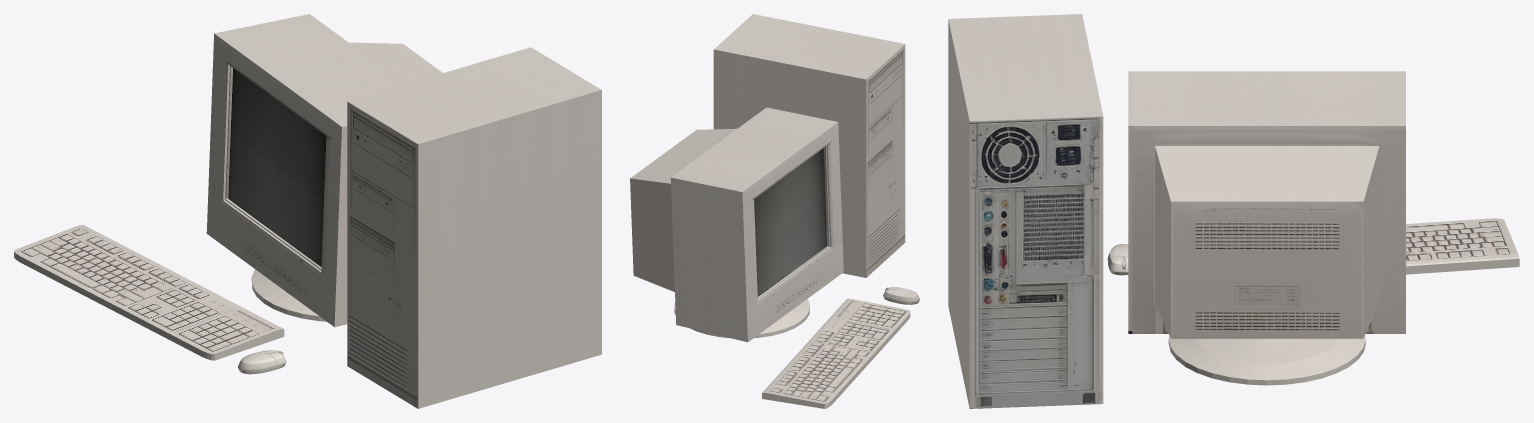
The model's file is Retro_Desktop_PC_Set_Low_Poly.glb.
3 views of the same model, side by side, from view 1: azimuth 30°, elevation 25°; view 2: azimuth 150°, elevation 25°; view 3: azimuth 270°, elevation 25° (orthographic). The views are drawn at different scales.
Visible parts, largest first — view 1: Block_Material.006_0, Monitor_Material.001_0, Keyboard_Material.002_0, Mouse_Material.004_0; view 2: Monitor_Material.001_0, Block_Material.006_0, Keyboard_Material.002_0, Mouse_Material.004_0; view 3: Monitor_Material.001_0, Block_Material.006_0, Keyboard_Material.002_0, Mouse_Material.004_0.
Boxes of the visible parts, x1=… form: Block_Material.006_0: x1=347, y1=47, x2=601, y2=408; Monitor_Material.001_0: x1=206, y1=14, x2=442, y2=327; Keyboard_Material.002_0: x1=14, y1=225, x2=284, y2=360; Mouse_Material.004_0: x1=238, y1=350, x2=286, y2=374; Monitor_Material.001_0: x1=630, y1=107, x2=843, y2=342; Block_Material.006_0: x1=713, y1=14, x2=905, y2=277; Keyboard_Material.002_0: x1=762, y1=298, x2=910, y2=408; Mouse_Material.004_0: x1=883, y1=287, x2=919, y2=304; Monitor_Material.001_0: x1=1128, y1=71, x2=1405, y2=385; Block_Material.006_0: x1=948, y1=14, x2=1103, y2=408; Keyboard_Material.002_0: x1=1406, y1=218, x2=1519, y2=274; Mouse_Material.004_0: x1=1107, y1=244, x2=1128, y2=275.
Bounding box in the file's own units: 3.53 × 2.6 × 4.67.
Materials: 3 (3 with a texture image).
